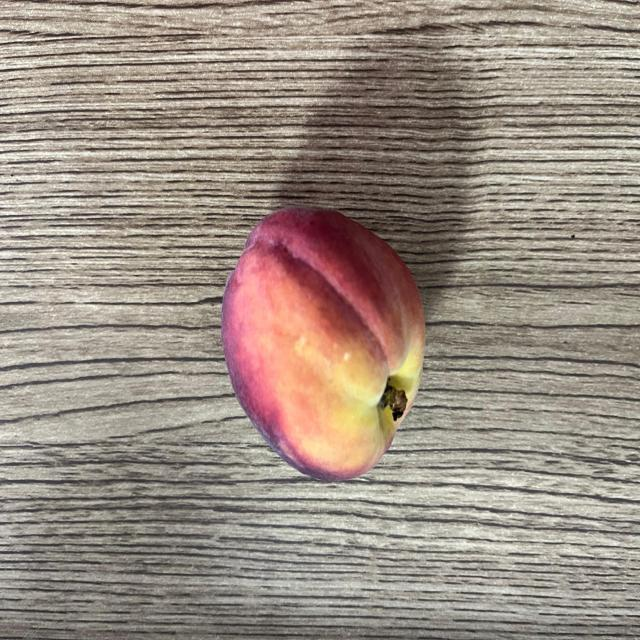Persik: (218, 200, 426, 486)
